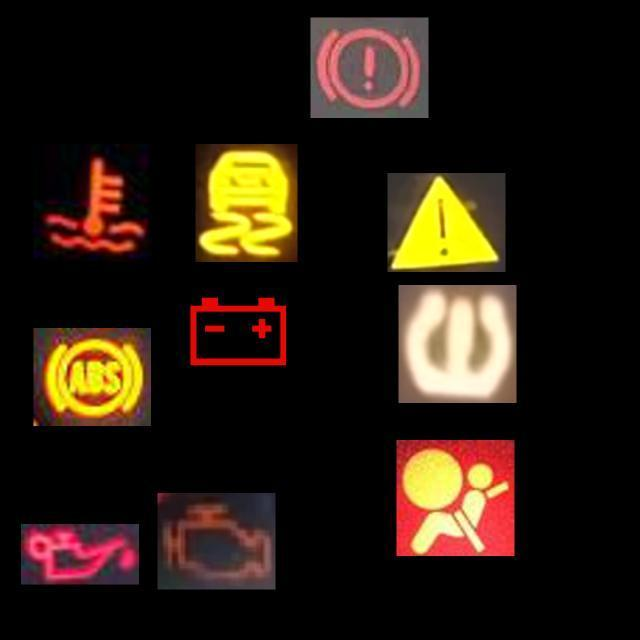Central Warning lamp: (388, 173, 506, 272)
Engine cooling system: (34, 144, 152, 262)
